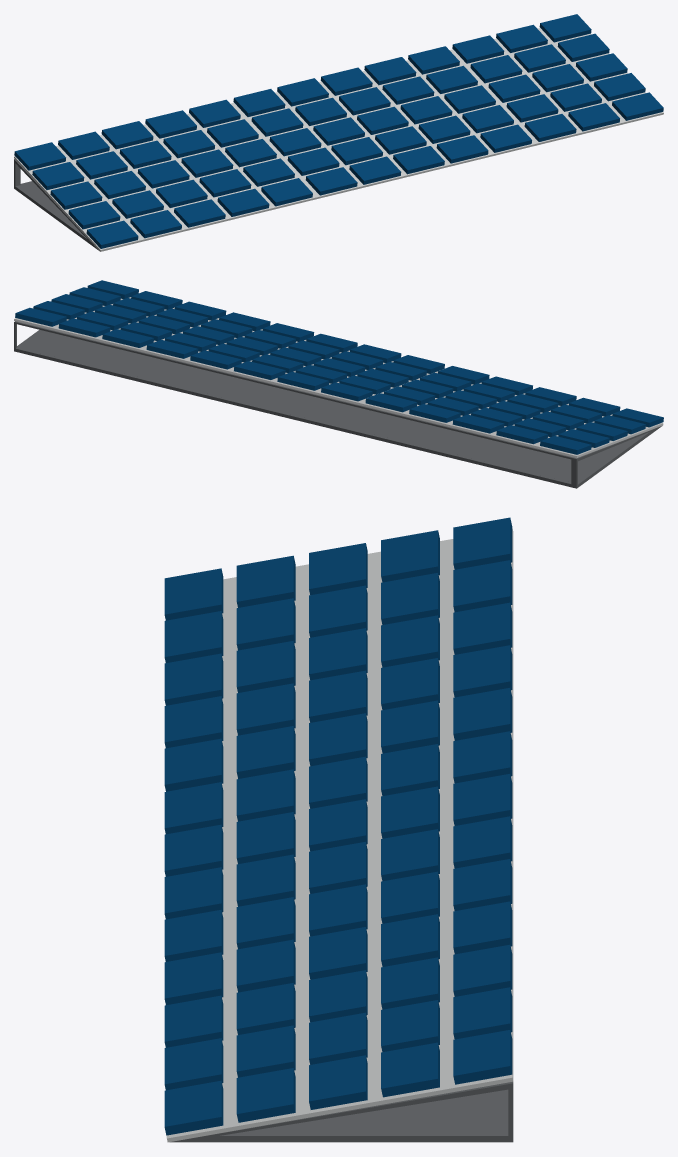
File: Solar Panel 5x13 small.glb
3 renders of one model, top to bottom at view 1: azimuth 30°, elevation 25°; view 2: azimuth 150°, elevation 25°; view 3: azimuth 270°, elevation 25°, orthographic. The views are drawn at different scales.
Visible parts, largest first — view 1: Mesh_Mesh_head_geo.001_lambert2SG.001; view 2: Mesh_Mesh_head_geo.001_lambert2SG.001; view 3: Mesh_Mesh_head_geo.001_lambert2SG.001.
Part boxes in pixels (left/top/right/bottom): Mesh_Mesh_head_geo.001_lambert2SG.001: left=14, top=14, right=663, bottom=251; Mesh_Mesh_head_geo.001_lambert2SG.001: left=14, top=280, right=663, bottom=488; Mesh_Mesh_head_geo.001_lambert2SG.001: left=164, top=517, right=513, bottom=1142.
Size of the model in its own units: 399 by 25.65 by 107.
